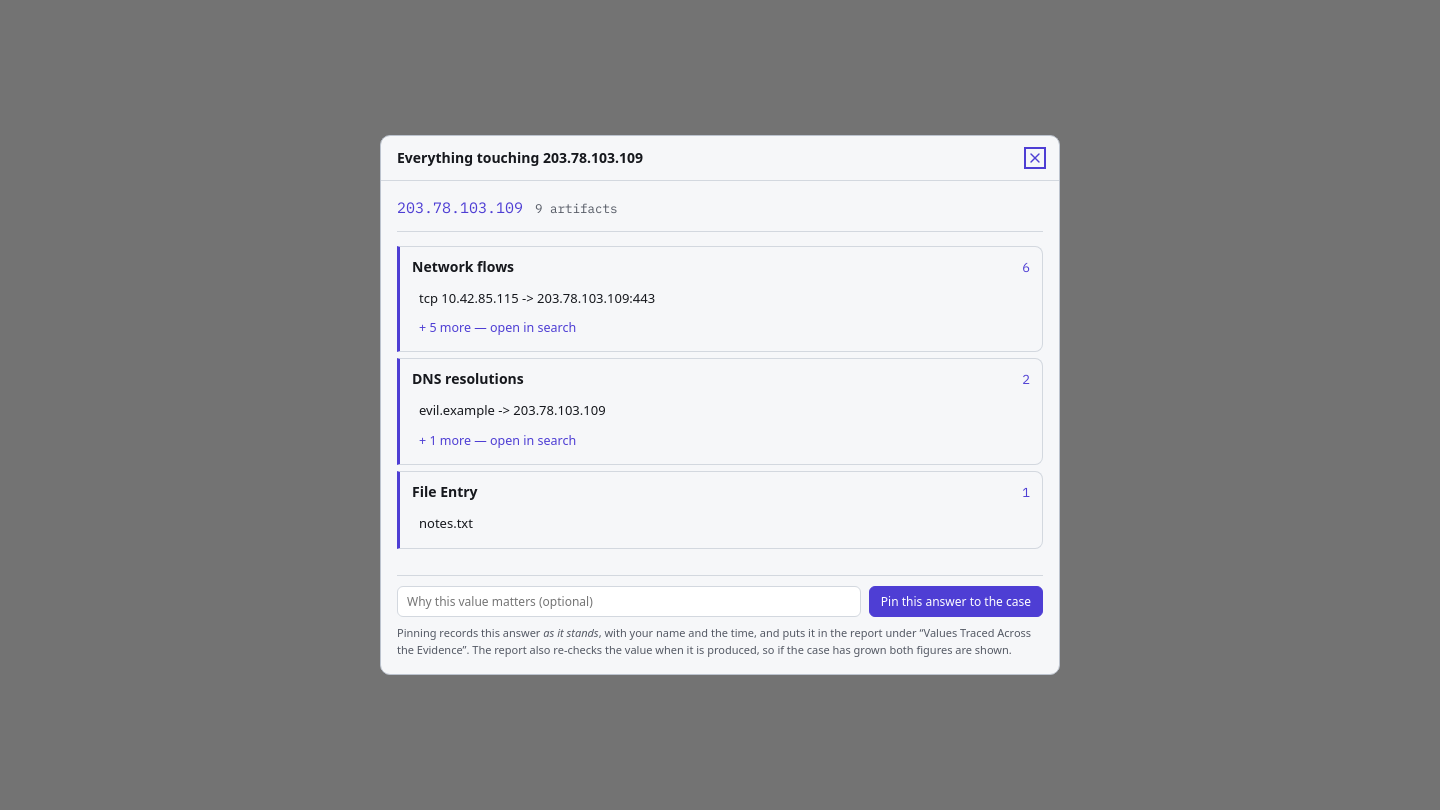
Test: PivotDrawer — pinning to the case › says a failed pin did not go through
Expected: the element with test id "pivot-pin" is shown, [397,575,1043,658]
Click the button "Pin this answer to the case".
click(956, 602)  # box [869,586,1043,617]
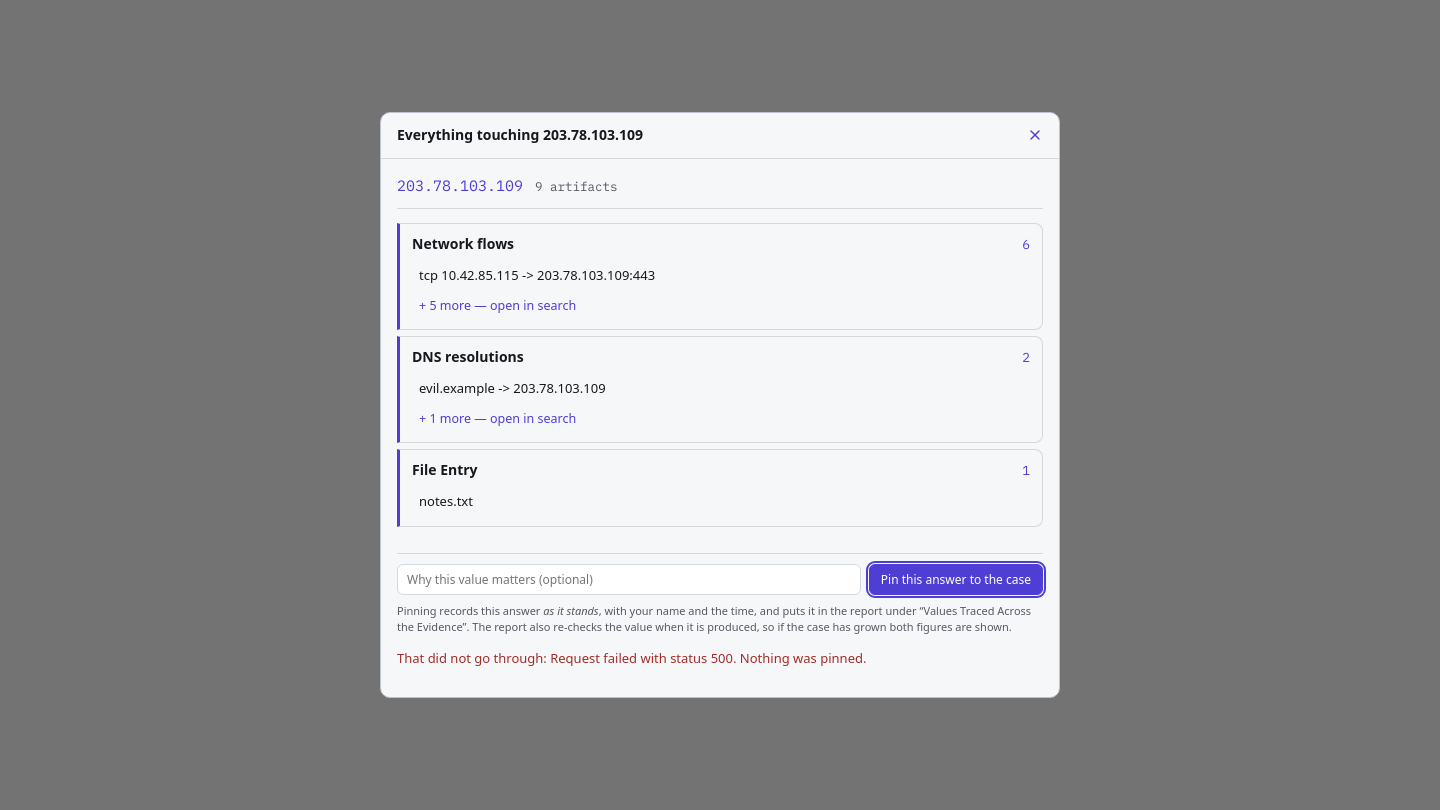
Result: the message shows "did not go through" at [397,649,550,667]
Result: the message reads "That did not go through: Request failed with status 500. Nothing was pinned." at [733,649,866,667]
